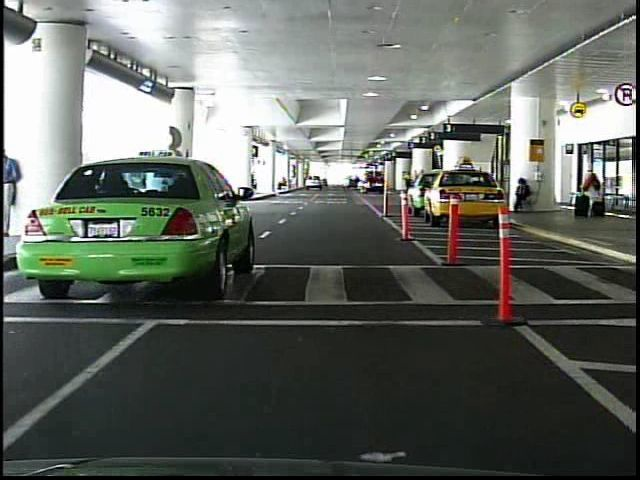person: (3, 143, 25, 230), (579, 166, 603, 218), (511, 177, 532, 211)
